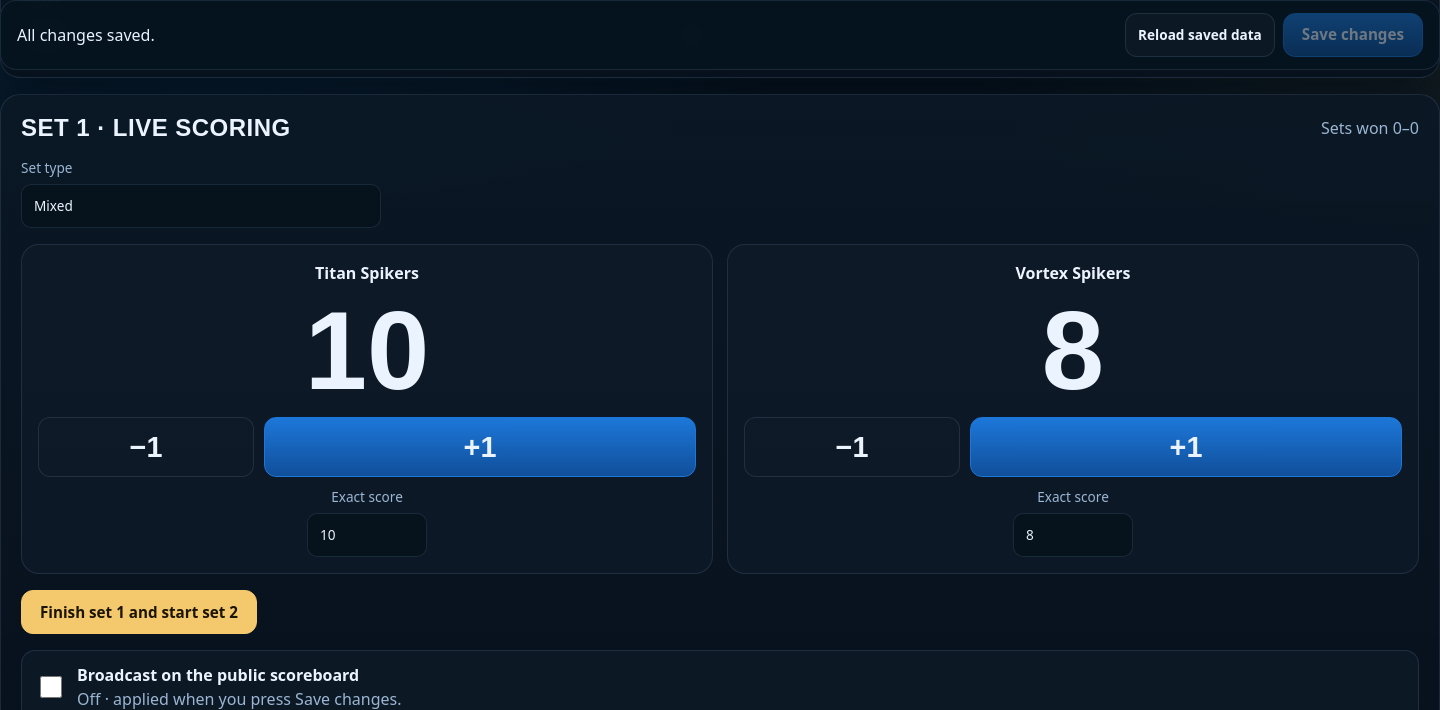
match editor: conflicting edits › 'load the latest' replaces my draft with the saved data
This screenshot has width=1440, height=710.
(page scrolled)
Click the button named "add a point to titan spikers". click: (480, 447)
box: x1=264 y1=417 x2=696 y2=477
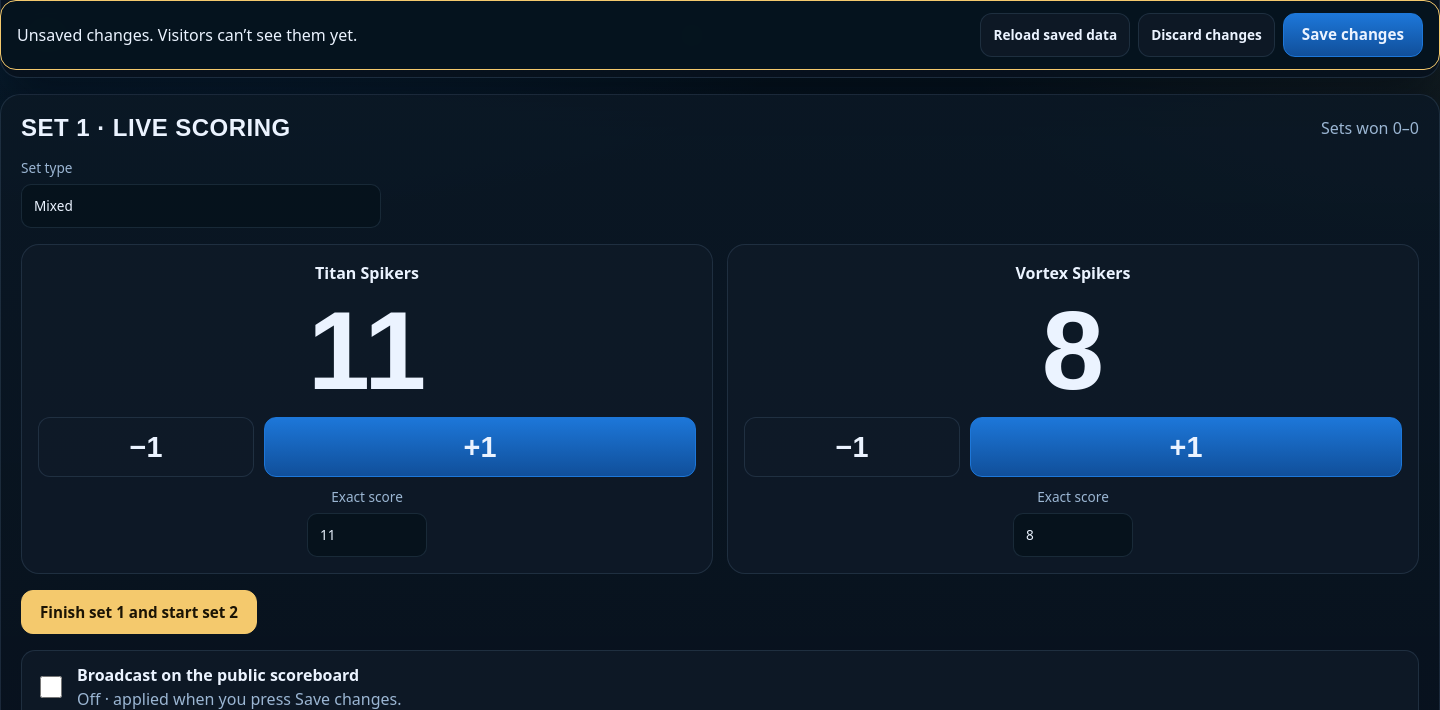
Click the button "Save changes". click: (1353, 35)
box: x1=1283 y1=13 x2=1423 y2=57
(page scrolled)
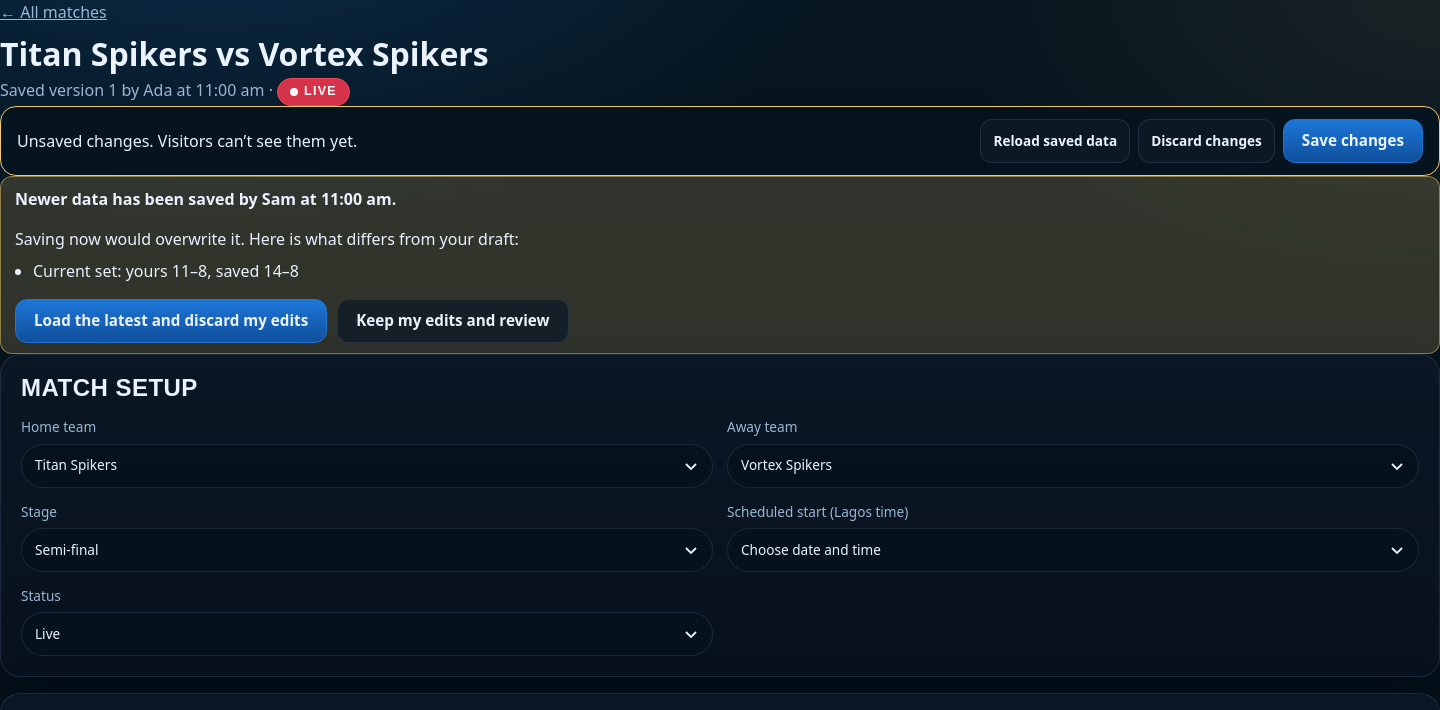
Click the button "Load the latest and discard my edits". click: (171, 321)
box: x1=15 y1=299 x2=327 y2=343
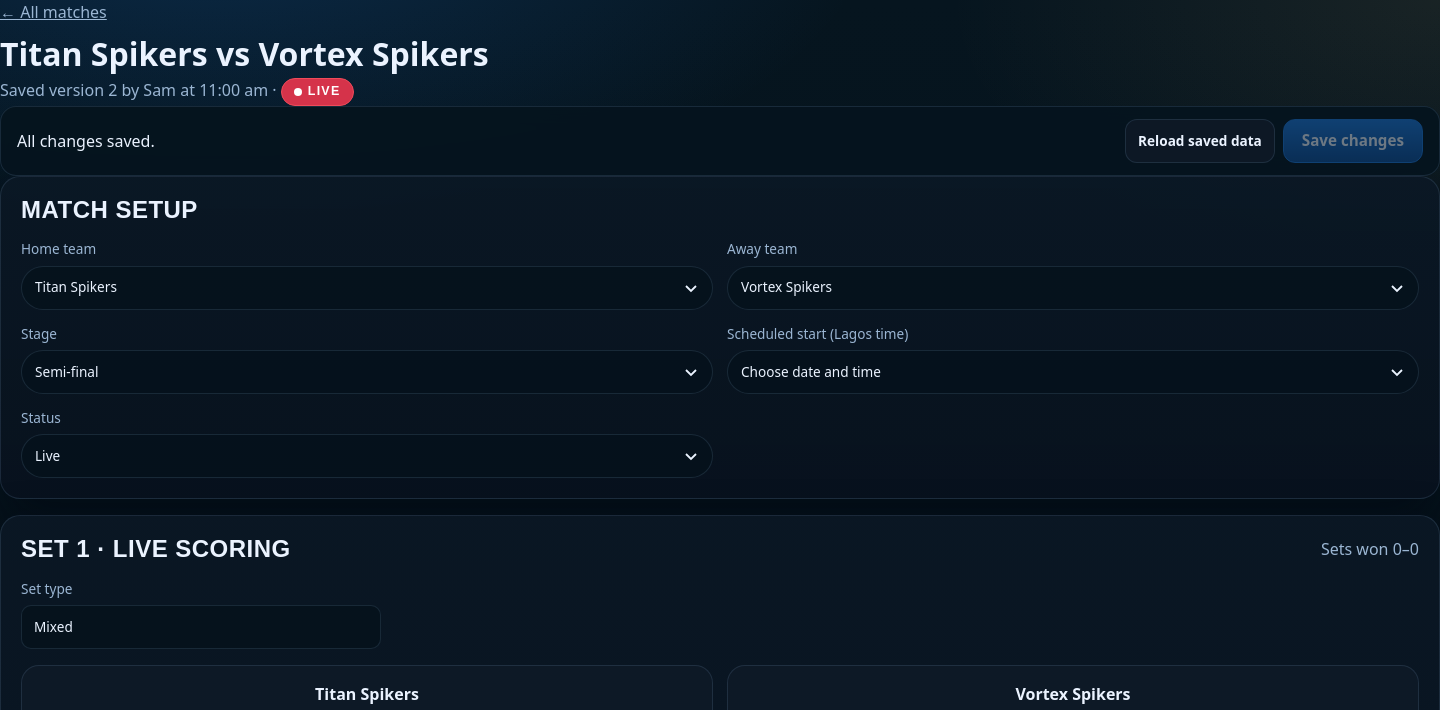
Result: the text "All changes saved." is shown at x1=17 y1=129 x2=155 y2=153
